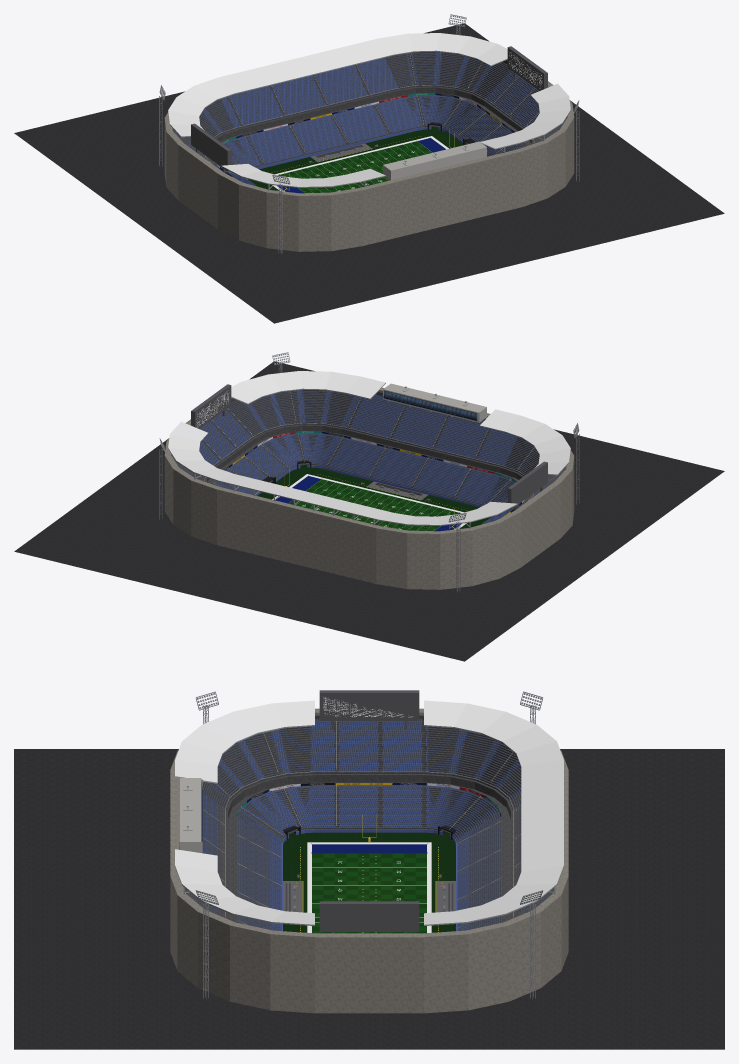
File: fsupastadium.fbx
3 renders of one model, top to bottom at view 1: azimuth 30°, elevation 25°; view 2: azimuth 150°, elevation 25°; view 3: azimuth 270°, elevation 25°, orthographic. The views are drawn at different scales.
Visible parts, largest first — view 1: Ground_Plane, Stadium_Shell, Stadium_Bowl, Stadium_Seats, Roof_Canopy, FF_Field, Videoboards, Press_Box, Field_Apron, Light_Racks, Ribbon_Board, Perimeter_Wall_Inner (+1 smaller); view 2: Ground_Plane, Stadium_Shell, Stadium_Bowl, Stadium_Seats, Roof_Canopy, FF_Field, Videoboards, Press_Box, Field_Apron, Light_Racks, Ribbon_Board, Perimeter_Wall_Inner (+1 smaller); view 3: Ground_Plane, Stadium_Bowl, Stadium_Shell, Stadium_Seats, Roof_Canopy, Videoboards, FF_Field, Field_Apron, Light_Racks, Press_Box, Team_Benches, FF_EndZones (+4 smaller).
Boxes of the visible parts, x1,y1,x2,y2 form: Ground_Plane: [14, 23, 724, 323]; Stadium_Shell: [164, 59, 574, 251]; Stadium_Bowl: [172, 51, 567, 185]; Stadium_Seats: [173, 51, 566, 186]; Roof_Canopy: [168, 33, 570, 190]; FF_Field: [280, 141, 432, 192]; Videoboards: [191, 46, 547, 172]; Press_Box: [383, 141, 486, 180]; Field_Apron: [248, 127, 462, 190]; Light_Racks: [159, 14, 579, 254]; Ribbon_Board: [214, 93, 524, 177]; Perimeter_Wall_Inner: [256, 126, 462, 169]; Ground_Plane: [14, 361, 724, 661]; Stadium_Shell: [164, 387, 574, 589]; Stadium_Bowl: [171, 389, 566, 522]; Stadium_Seats: [172, 389, 565, 524]; Roof_Canopy: [168, 371, 570, 528]; FF_Field: [289, 479, 458, 530]; Videoboards: [191, 384, 547, 510]; Press_Box: [383, 383, 486, 422]; Field_Apron: [257, 465, 490, 528]; Light_Racks: [159, 352, 579, 592]; Ribbon_Board: [214, 431, 524, 515]; Perimeter_Wall_Inner: [255, 464, 482, 507]; Ground_Plane: [14, 749, 724, 1049]; Stadium_Bowl: [185, 715, 553, 930]; Stadium_Shell: [170, 708, 568, 1013]; Stadium_Seats: [185, 719, 553, 930]; Roof_Canopy: [175, 700, 563, 925]; Videoboards: [319, 690, 419, 933]; FF_Field: [312, 853, 426, 933]; Field_Apron: [283, 832, 455, 932]; Light_Racks: [195, 691, 543, 999]; Press_Box: [179, 778, 202, 852]; Team_Benches: [283, 881, 455, 912]; FF_EndZones: [312, 844, 426, 853].
Size of the model in its own units: 30000 by 5158 by 30000.
